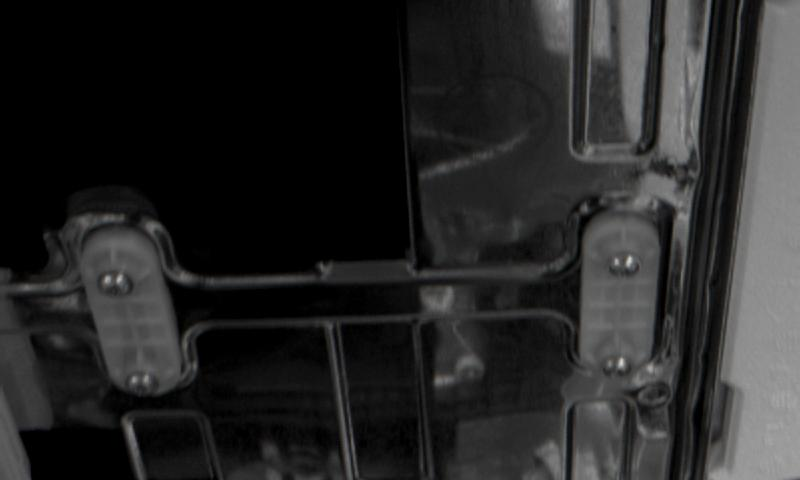vida-ok: (607, 238, 650, 283), (94, 260, 134, 305), (126, 358, 168, 398), (598, 346, 638, 384)
